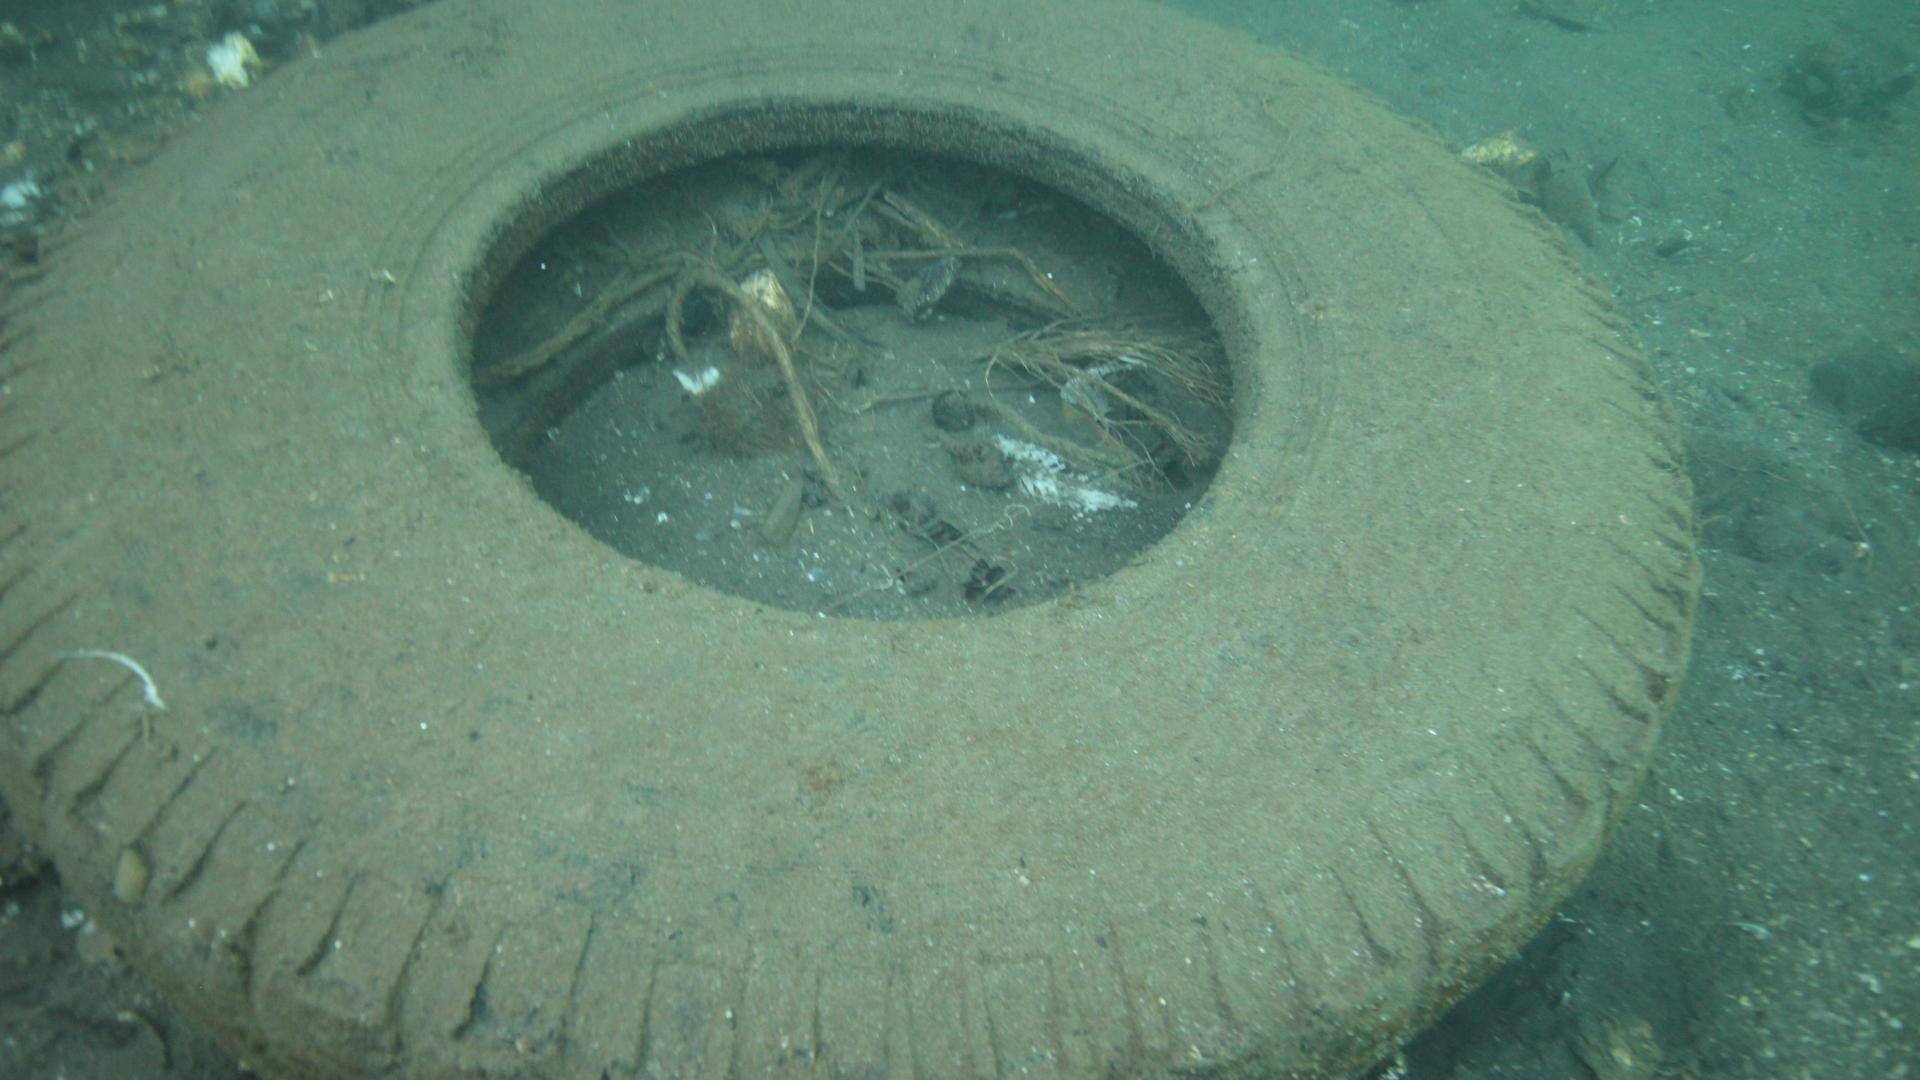tire: (0, 0, 1698, 1080)
